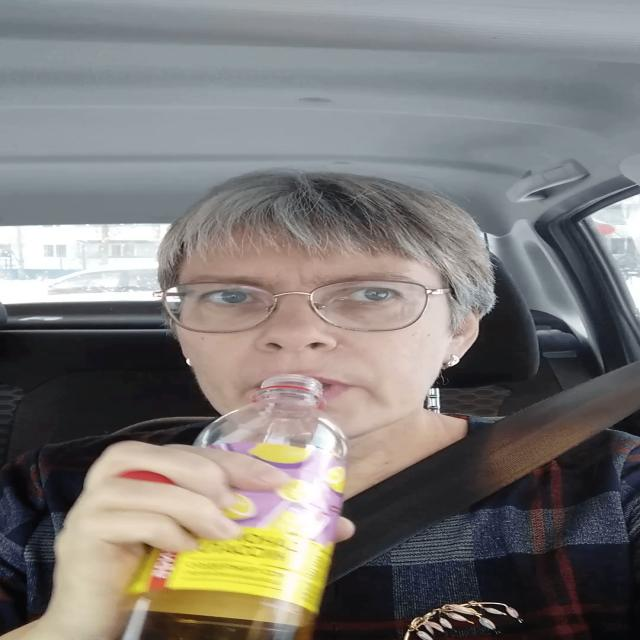3: (342, 362, 640, 568)
Seatbelt: (152, 374, 360, 640)
